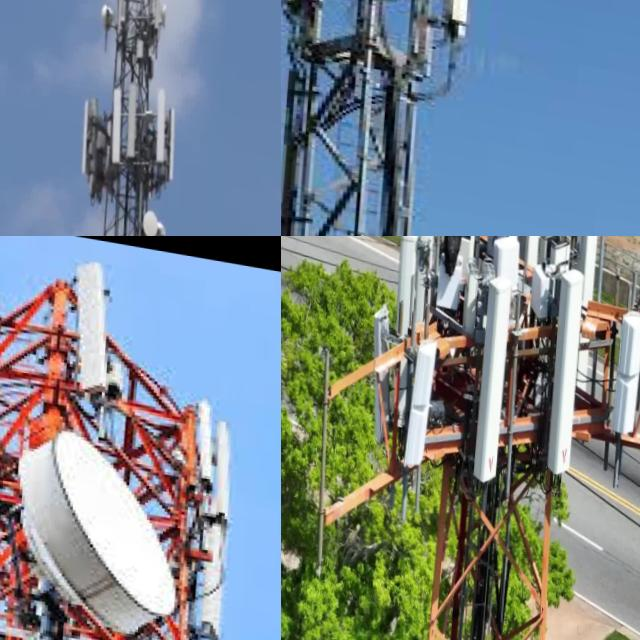GSM Antenna: (543, 253, 594, 471), (472, 258, 515, 482), (66, 247, 117, 395), (363, 296, 400, 444), (402, 326, 439, 472), (607, 291, 640, 433), (386, 236, 423, 335), (209, 403, 238, 515), (192, 379, 226, 473), (568, 236, 603, 303), (408, 236, 441, 294), (107, 79, 128, 164), (152, 77, 172, 161), (80, 94, 98, 180), (124, 74, 142, 155), (164, 101, 181, 182), (151, 0, 163, 29)
Microwave Antenna: (1, 418, 191, 640), (141, 197, 161, 234), (99, 0, 118, 36), (155, 214, 173, 236), (158, 0, 170, 26)
